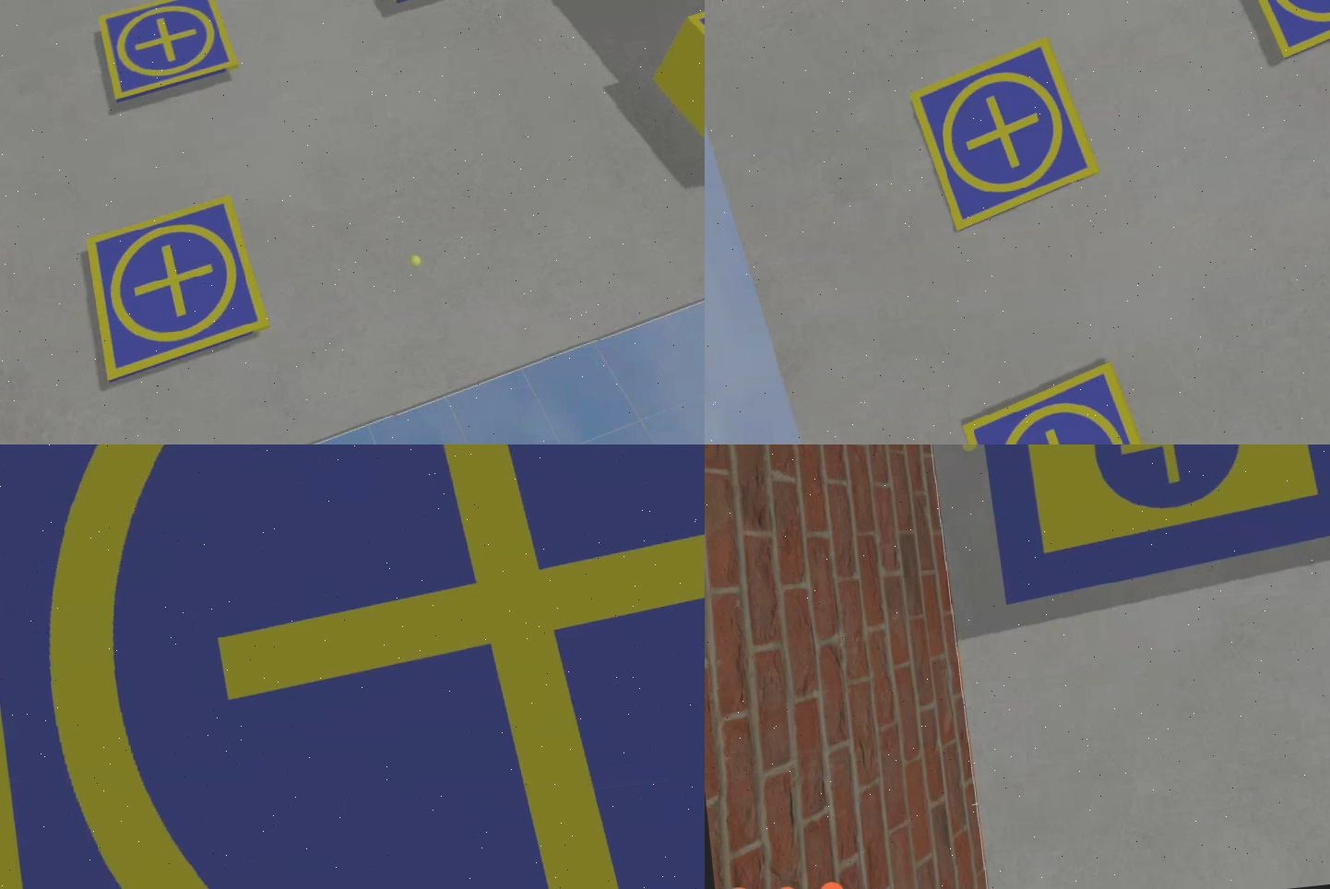large_base: (1, 445, 705, 889), (961, 445, 1330, 610)
small_base: (908, 36, 1103, 236), (81, 196, 271, 387), (961, 356, 1173, 445), (95, 1, 243, 104)
